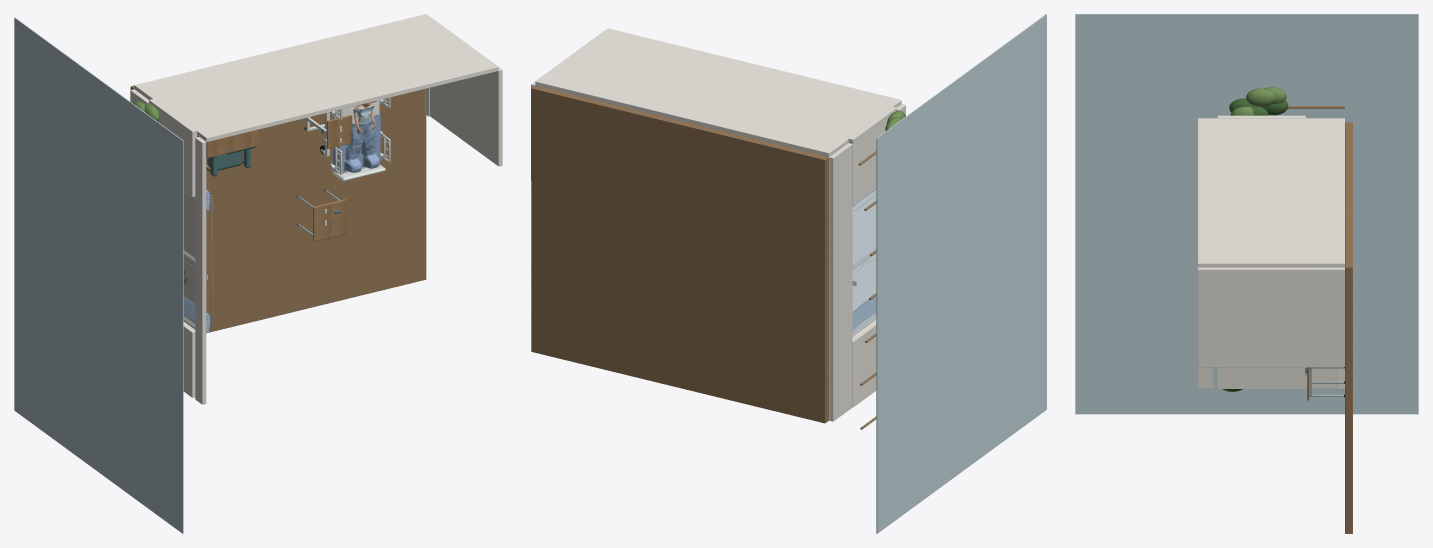
The model's file is room.glb.
3 renders of one model, left to right at view 1: azimuth 30°, elevation 25°; view 2: azimuth 150°, elevation 25°; view 3: azimuth 270°, elevation 25°, orthographic.
Visible parts, largest first — view 1: room_architecture visual Daylight exterior, room_architecture visual Continuous resilient floor, room_architecture visual Warm mineral wall finish, patient visual Sage knitted blanket, room_architecture visual Low iron window glass, bedside_table visual Light natural oak, hospital_bed visual Medical furniture polymer, wardrobe visual Light natural oak, visitor_chair visual Visitor chair woven teal, patient_tray visual Light natural oak; view 2: room_architecture visual Continuous resilient floor, room_architecture visual Daylight exterior, room_architecture visual Warm mineral wall finish, room_architecture visual Low iron window glass; view 3: room_architecture visual Daylight exterior, room_architecture visual Warm mineral wall finish, room_architecture visual Continuous resilient floor, room_architecture visual Foliage highlight, room_architecture visual Foliage.
Part boxes in pixels (x1,y1,x2,y2): room_architecture visual Daylight exterior: (14,17,183,533); room_architecture visual Continuous resilient floor: (130,85,426,333); room_architecture visual Warm mineral wall finish: (130,14,502,404); patient visual Sage knitted blanket: (333,111,380,172); room_architecture visual Low iron window glass: (183,191,195,327); bedside_table visual Light natural oak: (313,199,346,241); hospital_bed visual Medical furniture polymer: (321,97,390,181); wardrobe visual Light natural oak: (197,129,259,158); visitor_chair visual Visitor chair woven teal: (208,146,255,176); patient_tray visual Light natural oak: (327,115,352,148); room_architecture visual Continuous resilient floor: (531,85,828,423); room_architecture visual Daylight exterior: (876,14,1046,533); room_architecture visual Warm mineral wall finish: (531,28,905,421); room_architecture visual Low iron window glass: (852,189,876,335); room_architecture visual Daylight exterior: (1075,14,1418,414); room_architecture visual Warm mineral wall finish: (1198,115,1344,388); room_architecture visual Continuous resilient floor: (1345,122,1352,533); room_architecture visual Foliage highlight: (1230,87,1286,115); room_architecture visual Foliage: (1222,98,1288,391).
Bounding box in the file's own units: 9.11 × 9 × 7.
Materials: 23 (7 with a texture image).
